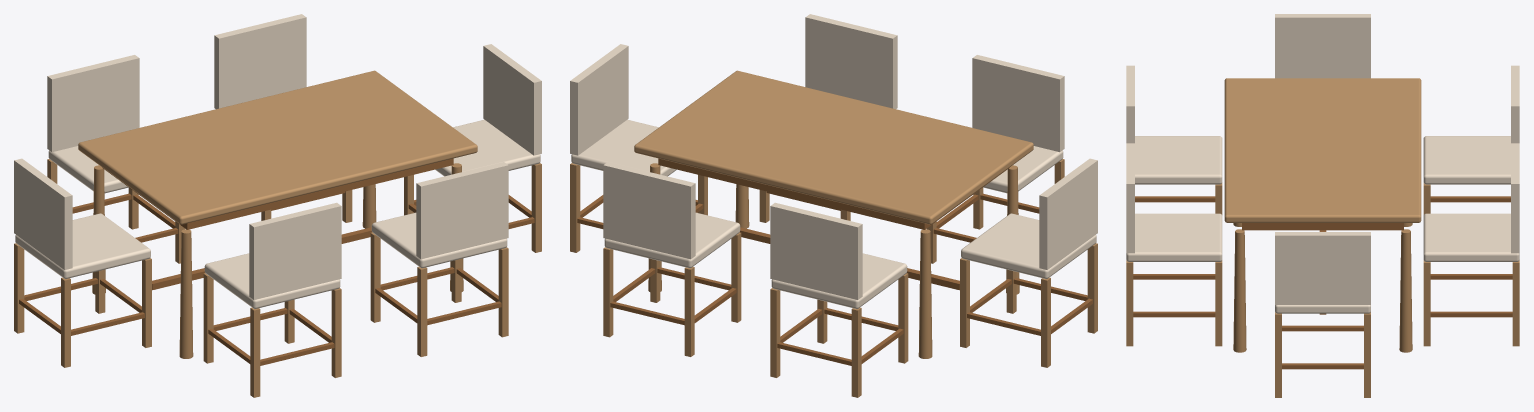
Rendered from table.glb.
3 views of the same model, side by side, from view 1: azimuth 30°, elevation 25°; view 2: azimuth 150°, elevation 25°; view 3: azimuth 270°, elevation 25° (orthographic). The views are drawn at different scales.
Parts seen in each view (by area): view 1: material-3-cushion, material-0-top, material-2-leg, material-1-trim; view 2: material-3-cushion, material-0-top, material-2-leg, material-1-trim; view 3: material-3-cushion, material-0-top, material-2-leg, material-1-trim.
Part boxes in pixels (bbox=[...]): material-3-cushion: bbox=[14, 14, 541, 308]; material-0-top: bbox=[78, 70, 477, 224]; material-2-leg: bbox=[14, 159, 541, 397]; material-1-trim: bbox=[19, 158, 534, 365]; material-3-cushion: bbox=[570, 14, 1097, 308]; material-0-top: bbox=[634, 70, 1033, 224]; material-2-leg: bbox=[570, 159, 1097, 397]; material-1-trim: bbox=[577, 158, 1092, 365]; material-3-cushion: bbox=[1126, 14, 1519, 313]; material-0-top: bbox=[1224, 78, 1421, 222]; material-2-leg: bbox=[1126, 183, 1519, 397]; material-1-trim: bbox=[1133, 196, 1512, 369].
Size of the model in its own units: 2.4 by 0.82 by 1.8.
